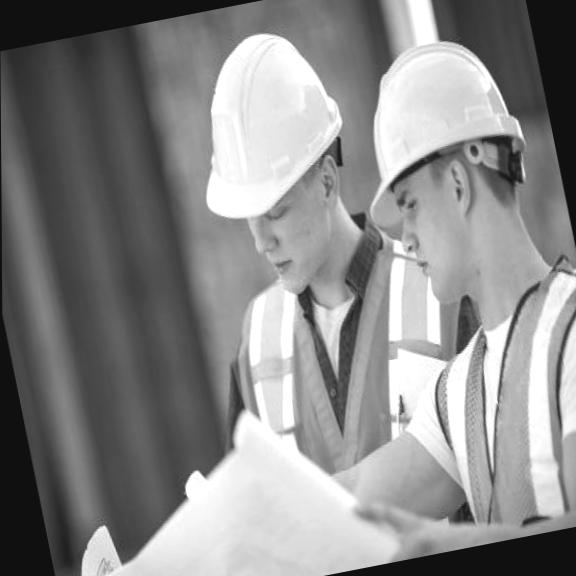safety_vest: (209, 208, 498, 492), (406, 247, 576, 540)
